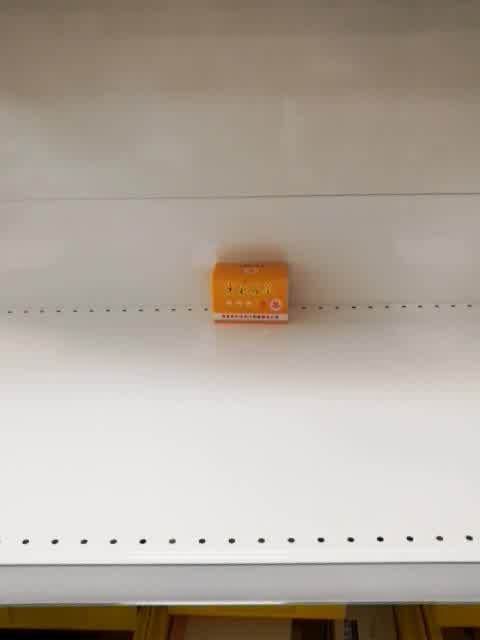jasminetea: (210, 259, 293, 326)
